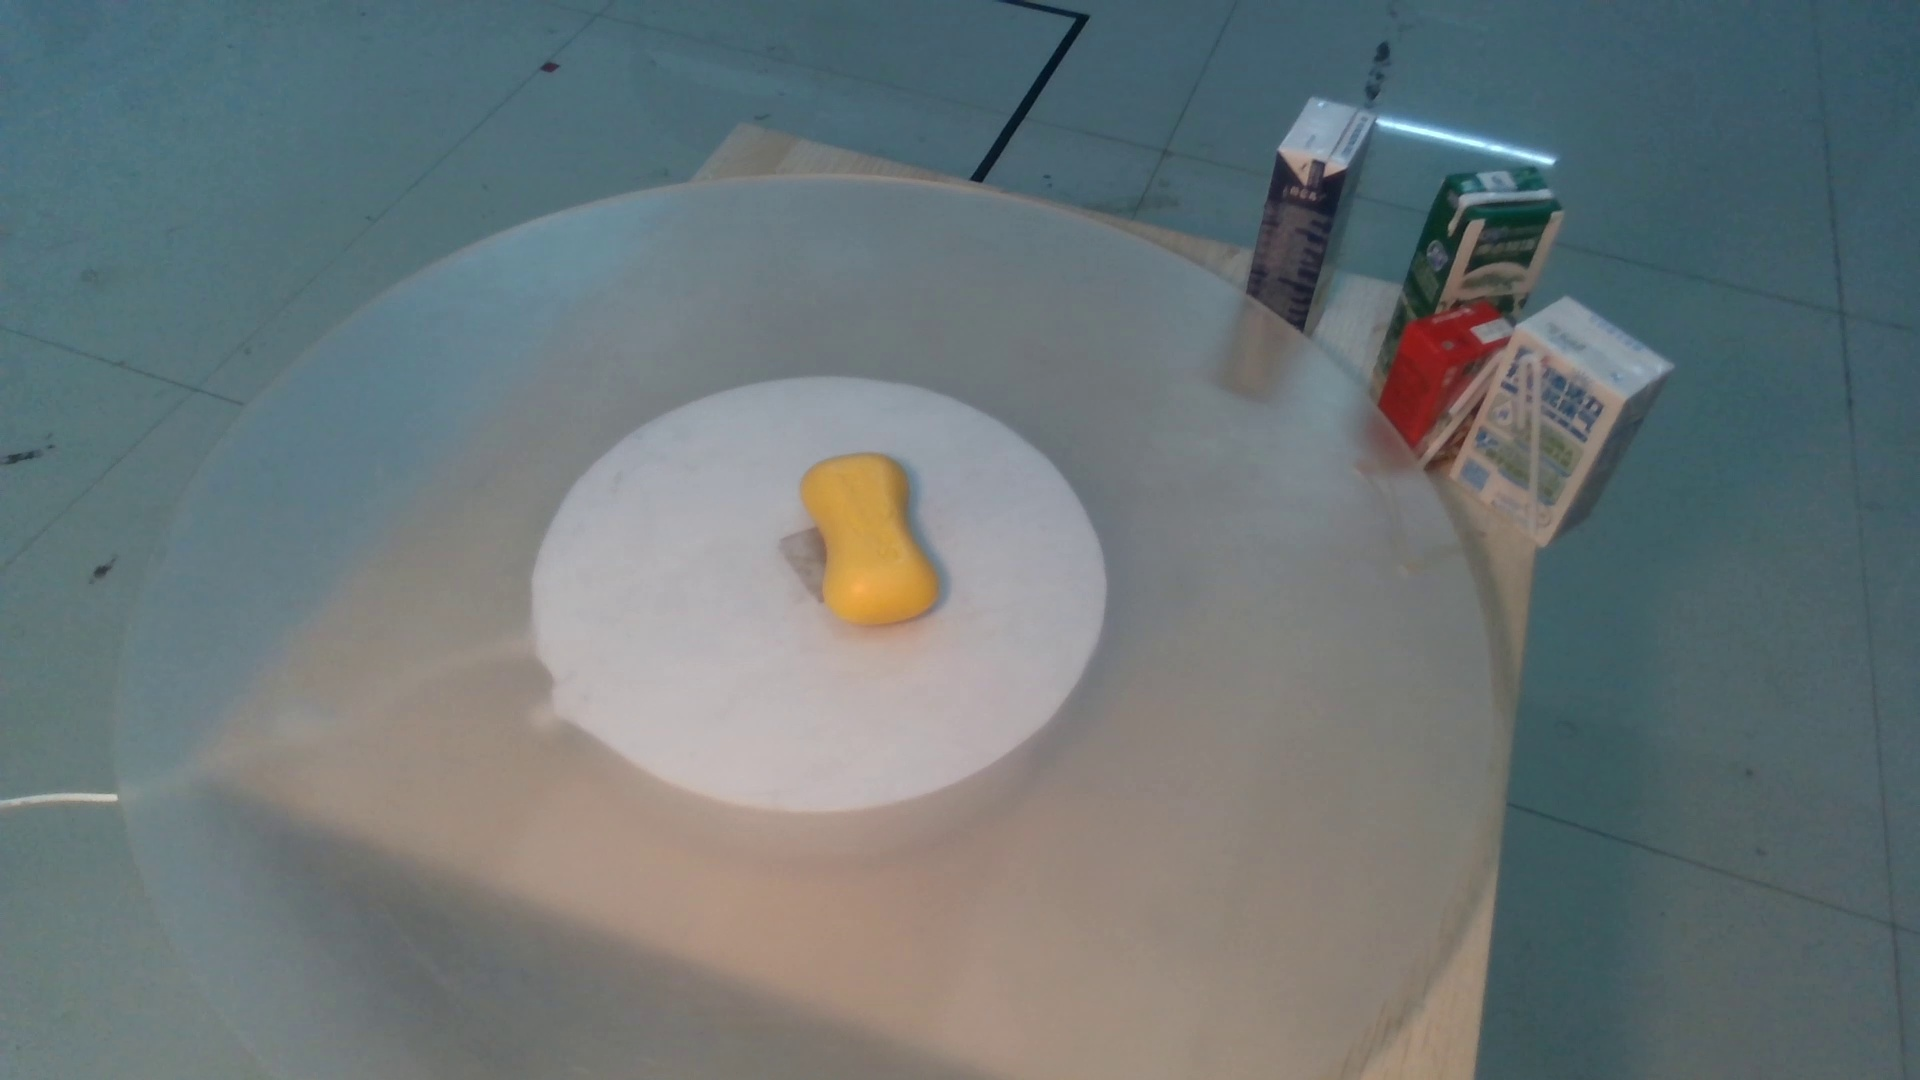CA003_1: (786, 435, 952, 640)
